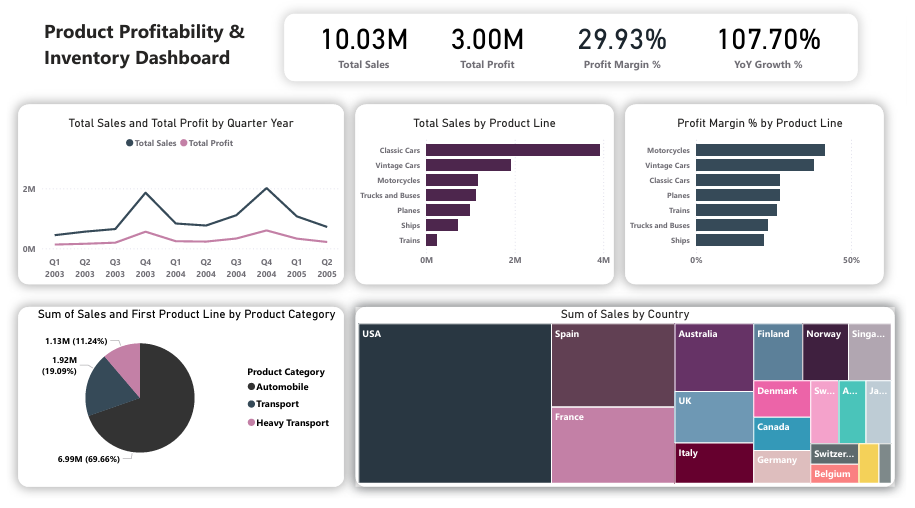

What the dashboard file says about the page in this screenshot:
{"tool":"powerbi","page":{"name":"Duplicate of Duplicate of Profitability Dashboard","canvas":[1280,720],"ordinal":1},"visuals":[{"type":"shape","box":[496,160,368,256],"z":0},{"type":"shape","box":[496,448,768,256],"z":1000},{"type":"shape","box":[880,160,368,256],"z":2000},{"type":"shape","box":[16,160,464,256],"z":3000},{"type":"shape","box":[16,448,464,256],"z":3000,"group":"g2"},{"type":"card","fields":{"Values":["Sales.Total Sales"]},"box":[396.3,16,224,112],"z":4000,"group":"g1"},{"type":"shape","box":[395.3,30.9,816,96],"z":4000},{"type":"card","fields":{"Values":["Sales.Total Profit"]},"box":[572.3,16,224,112],"z":5000,"group":"g1"},{"type":"textbox","box":[48,32,304,112],"z":5000},{"type":"card","fields":{"Values":["Sales.Profit Margin %"]},"box":[764.3,16,224,112],"z":6000,"group":"g1"},{"type":"barChart","fields":{"Y":["Sales.Total Sales"],"Category":["Sales.Product Line"]},"box":[496,176,368,224],"z":6000},{"type":"card","fields":{"Values":["Sales.YoY Growth %"]},"box":[972.3,16,224,112],"z":7000,"group":"g1"},{"type":"barChart","fields":{"Category":["Sales.Product Line"],"Y":["Sales.Profit Margin %"]},"box":[880,176,384,224],"z":7000},{"type":"pieChart","fields":{"Category":["Sales.Product Category"],"Y":["Sum(Sales.Sales)"]},"box":[32,448,448,240],"z":7000,"group":"g2"},{"type":"lineChart","fields":{"Y":["Sales.Total Sales","Sales.Total Profit"],"Category":["Date.Quarter Year"]},"box":[16,176,464,240],"z":8000},{"type":"treemap","fields":{"Group":["Sales.Country"],"Values":["Sum(Sales.Sales)"]},"box":[496,448,768,256],"z":9000},{"type":"group","id":"g1","title":"Group 1","box":[396.3,16,800,112],"z":10000},{"type":"group","id":"g2","title":"Group 2","box":[16,448,464,256],"z":11000}]}

Visuals, with their boxes in screenshot pixels (x1, y1, x2, y2), scaled from the page's 1280x720 canvas onto the 915x508 screenshot:
shape: box(355, 113, 618, 294)
shape: box(355, 316, 904, 497)
shape: box(629, 113, 892, 294)
shape: box(11, 113, 343, 294)
shape: box(11, 316, 343, 497)
card - Sales.Total Sales: box(283, 11, 443, 90)
shape: box(283, 22, 866, 90)
card - Sales.Total Profit: box(409, 11, 569, 90)
textbox: box(34, 23, 252, 102)
card - Sales.Profit Margin %: box(546, 11, 706, 90)
barChart - Sales.Total Sales x Sales.Product Line: box(355, 124, 618, 282)
card - Sales.YoY Growth %: box(695, 11, 855, 90)
barChart - Sales.Product Line x Sales.Profit Margin %: box(629, 124, 904, 282)
pieChart - Sales.Product Category x Sum(Sales.Sales): box(23, 316, 343, 485)
lineChart - Sales.Total Sales x Sales.Total Profit: box(11, 124, 343, 294)
treemap - Sales.Country x Sum(Sales.Sales): box(355, 316, 904, 497)
"Group 1" group: box(283, 11, 855, 90)
"Group 2" group: box(11, 316, 343, 497)
